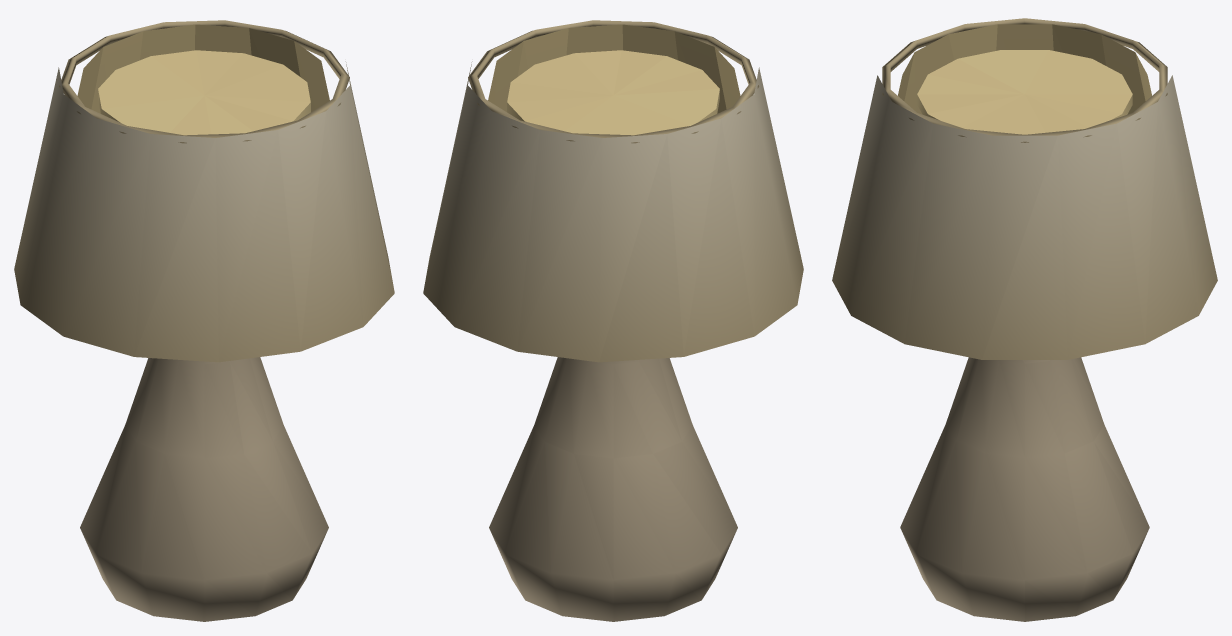
The model's file is table_lamp.glb.
The picture shows the model from 3 angles, left to right: view 1: azimuth 30°, elevation 25°; view 2: azimuth 150°, elevation 25°; view 3: azimuth 270°, elevation 25°; orthographic projection.
Visible parts, largest first — view 1: table_lamp; view 2: table_lamp; view 3: table_lamp.
Part boxes in pixels (x1,y1,x2,y2): table_lamp: (14, 20, 394, 621); table_lamp: (423, 20, 803, 621); table_lamp: (832, 18, 1217, 621).
Bounding box in the file's own units: 0.3315 × 0.5 × 0.34.
